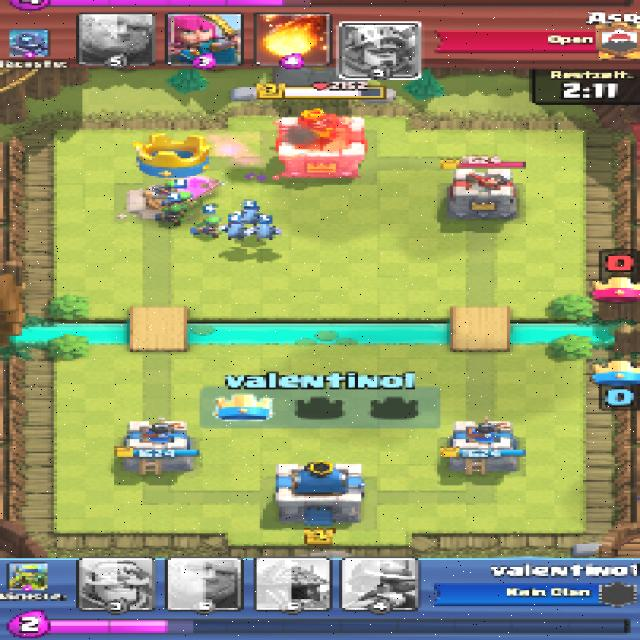Player-Minion: (248, 222, 283, 242), (220, 220, 254, 239), (231, 205, 266, 222)
Player-SpearGoblin: (192, 216, 223, 237), (156, 206, 188, 223), (164, 192, 193, 206), (158, 182, 181, 196)
